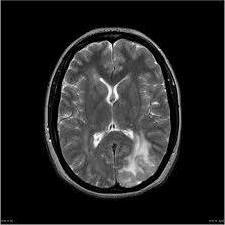Normal_Brain: (10, 4, 222, 225)
